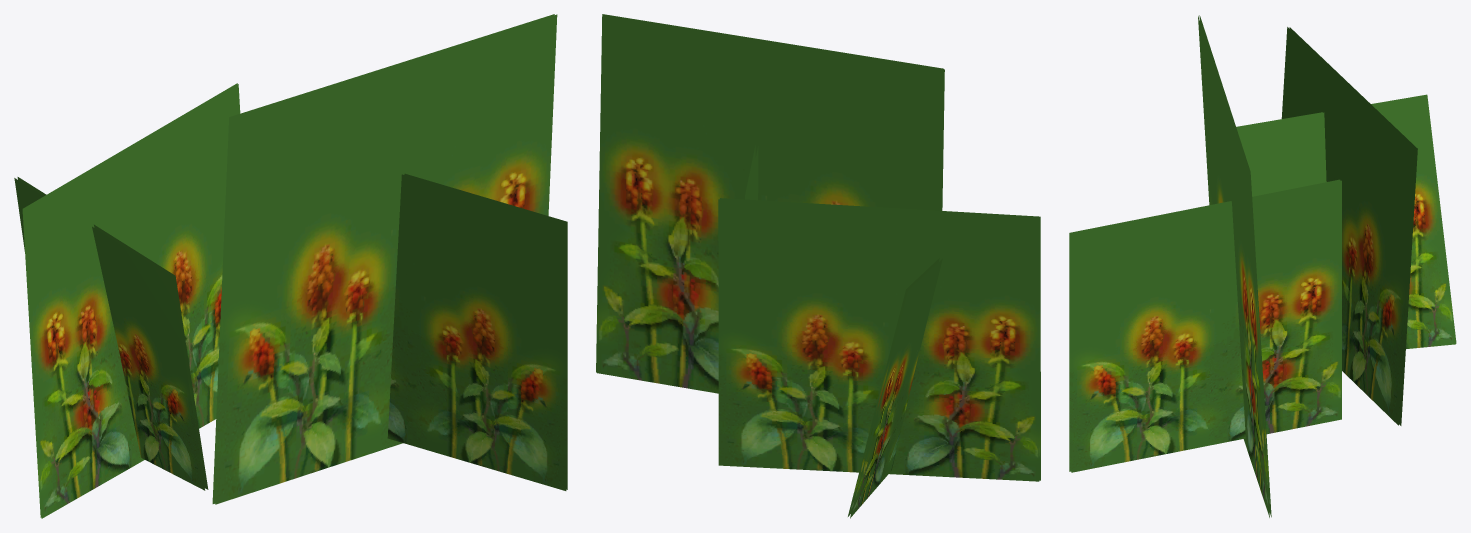
Rendered from DN_grass08e.FBX.
The picture shows the model from 3 angles, left to right: view 1: azimuth 30°, elevation 25°; view 2: azimuth 150°, elevation 25°; view 3: azimuth 270°, elevation 25°; orthographic projection. The views are drawn at different scales.
Parts seen in each view (by area): view 1: DN_grass08e; view 2: DN_grass08e; view 3: DN_grass08e.
Part boxes in pixels (x1=…): DN_grass08e: x1=14, y1=14, x2=567, y2=518; DN_grass08e: x1=596, y1=14, x2=1040, y2=518; DN_grass08e: x1=1069, y1=15, x2=1456, y2=517.
Size of the model in its own units: 75.42 by 55.65 by 55.4.
1 material, 1 textured.
